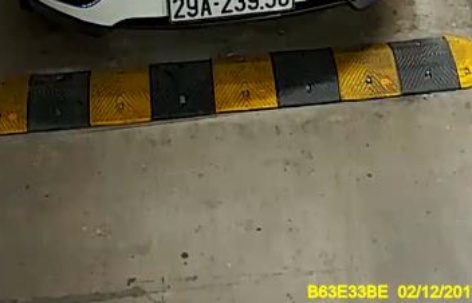plate: (164, 0, 295, 25)
